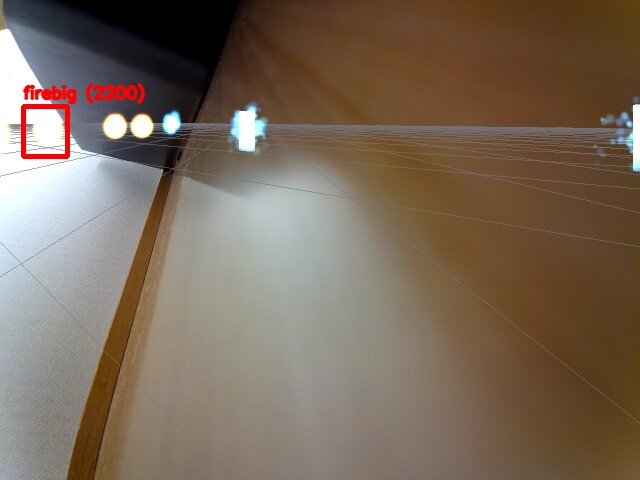firebig: (23, 106, 67, 156)
